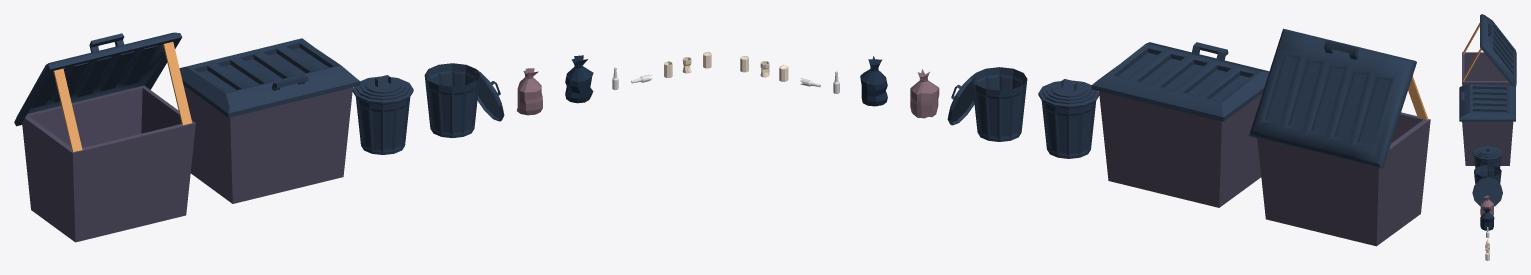
File: TrashAssets.fbx
3 views of the same model, side by side, from view 1: azimuth 30°, elevation 25°; view 2: azimuth 150°, elevation 25°; view 3: azimuth 270°, elevation 25° (orthographic). The views are drawn at different scales.
Parts seen in each view (by area): view 1: trashBox.001, trashBox, trash can.2, trash can, trash2, trash; view 2: trashBox.001, trashBox, trash can.2, trash can, trash, trash2; view 3: trashBox, trashBox.001, trash can.2, trash can, trash2, trash.
Part boxes in pixels (x1,y1,x2,y2): trashBox.001: (14, 32, 195, 242); trashBox: (179, 38, 360, 203); trash can.2: (424, 63, 504, 137); trash can: (352, 75, 413, 154); trash2: (565, 55, 593, 103); trash: (517, 68, 542, 115); trashBox.001: (1249, 28, 1430, 246); trashBox: (1091, 42, 1269, 207); trash can.2: (947, 67, 1027, 141); trash can: (1038, 79, 1099, 158); trash: (910, 69, 939, 118); trash2: (860, 56, 887, 106); trashBox: (1459, 84, 1515, 165); trashBox.001: (1462, 14, 1516, 86); trash can.2: (1472, 165, 1502, 206); trash can: (1472, 145, 1502, 167); trash2: (1480, 207, 1494, 230); trash: (1480, 195, 1493, 215).
Bounding box in the file's own units: 1016 × 255 × 150.
